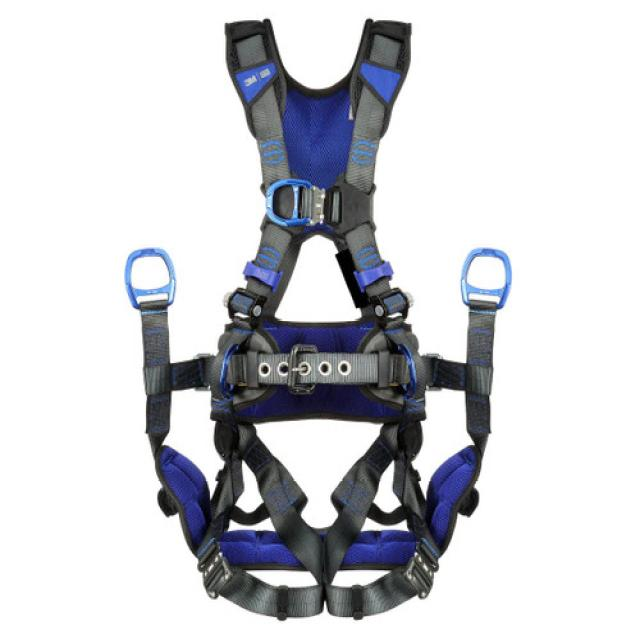Harness: (105, 2, 533, 626)
